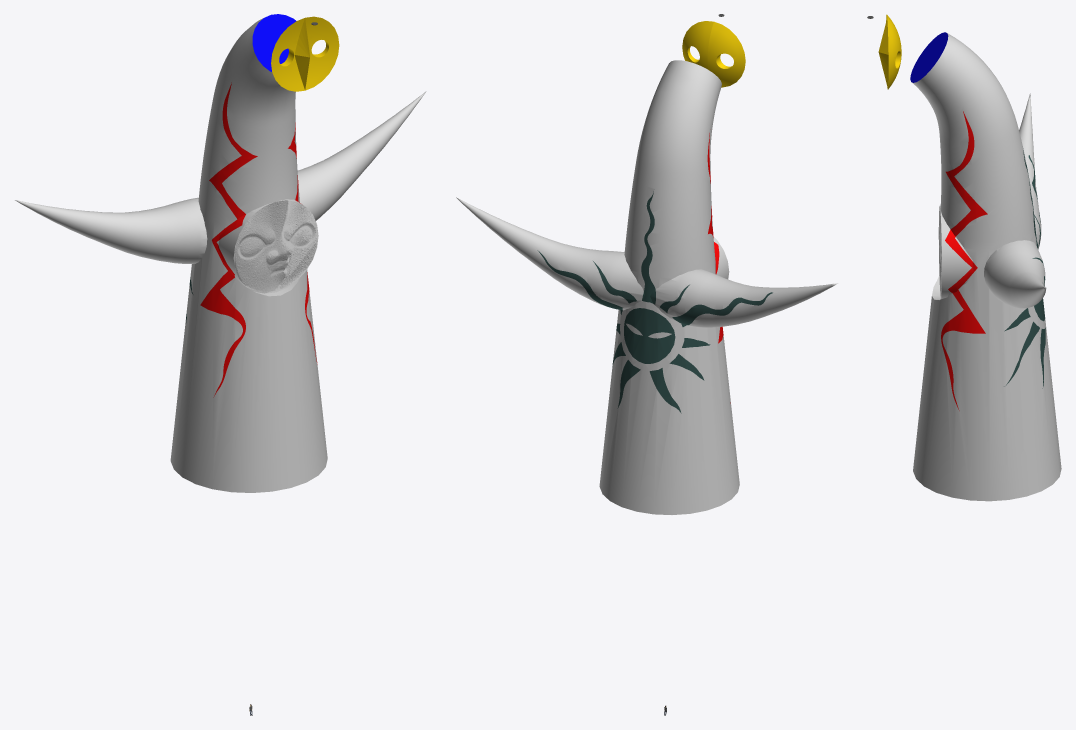
Rendered from TowerofTheSun.obj.
3 renders of one model, left to right at view 1: azimuth 30°, elevation 25°; view 2: azimuth 150°, elevation 25°; view 3: azimuth 270°, elevation 25°, orthographic. The views are drawn at different scales.
Parts seen in each view (by area): view 1: Mesh4 Tower_of_The_Sun__Old_Version_1 Model, Mesh2 Tower_of_The_Sun__Old_Version_1 Model; view 2: Mesh4 Tower_of_The_Sun__Old_Version_1 Model, Mesh2 Tower_of_The_Sun__Old_Version_1 Model; view 3: Mesh4 Tower_of_The_Sun__Old_Version_1 Model, Mesh2 Tower_of_The_Sun__Old_Version_1 Model.
Boxes of the visible parts, left/top/right/bottom form: Mesh4 Tower_of_The_Sun__Old_Version_1 Model: left=15, top=14, right=426, bottom=492; Mesh2 Tower_of_The_Sun__Old_Version_1 Model: left=271, top=16, right=339, bottom=91; Mesh4 Tower_of_The_Sun__Old_Version_1 Model: left=456, top=60, right=838, bottom=514; Mesh2 Tower_of_The_Sun__Old_Version_1 Model: left=682, top=21, right=745, bottom=87; Mesh4 Tower_of_The_Sun__Old_Version_1 Model: left=910, top=32, right=1061, bottom=501; Mesh2 Tower_of_The_Sun__Old_Version_1 Model: left=878, top=14, right=901, bottom=89.
Size of the model in its own units: 64.26 by 108 by 27.13.
